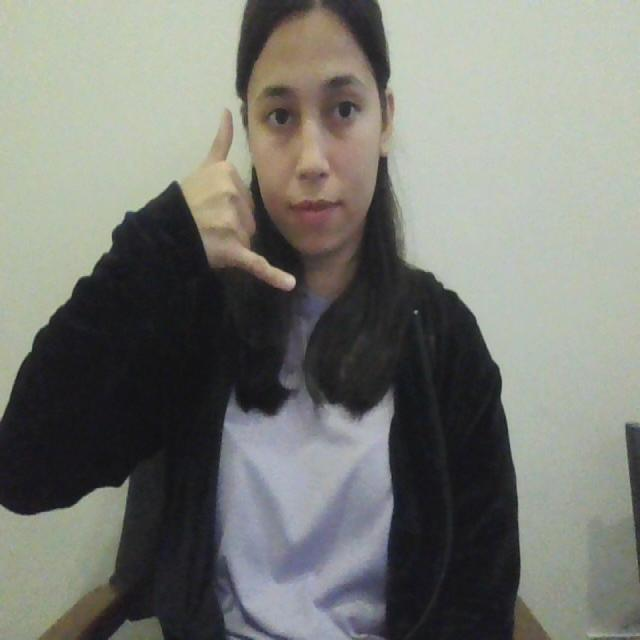Telefon: (172, 97, 300, 296)
